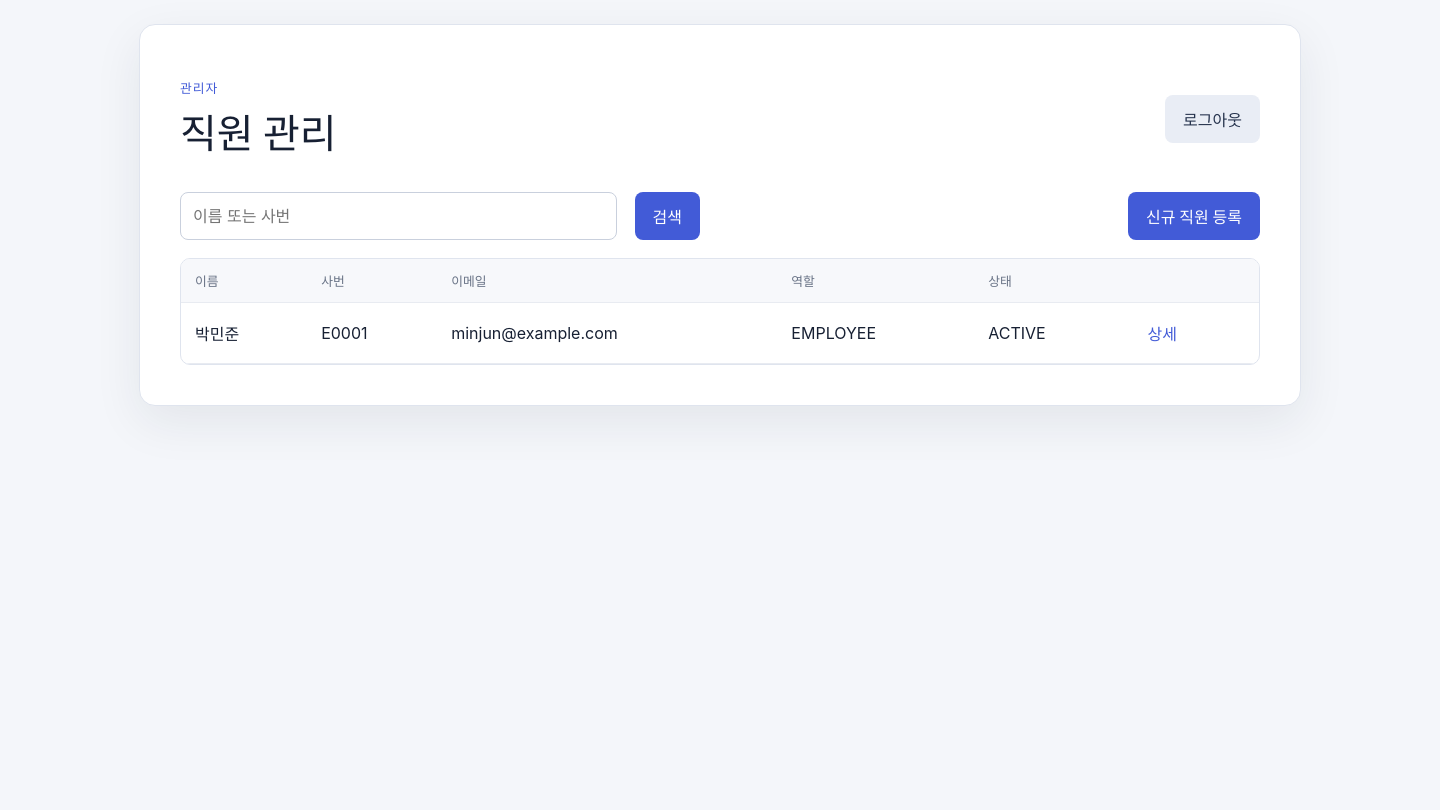
Test: 관리자는 이름 제안을 수정해 Background Check를 요청한다
Expected: the text "박민준" is shown, left=181, top=302, right=307, bottom=363
Click the button "상세".
click(1162, 333)  # box left=1138, top=315, right=1187, bottom=351
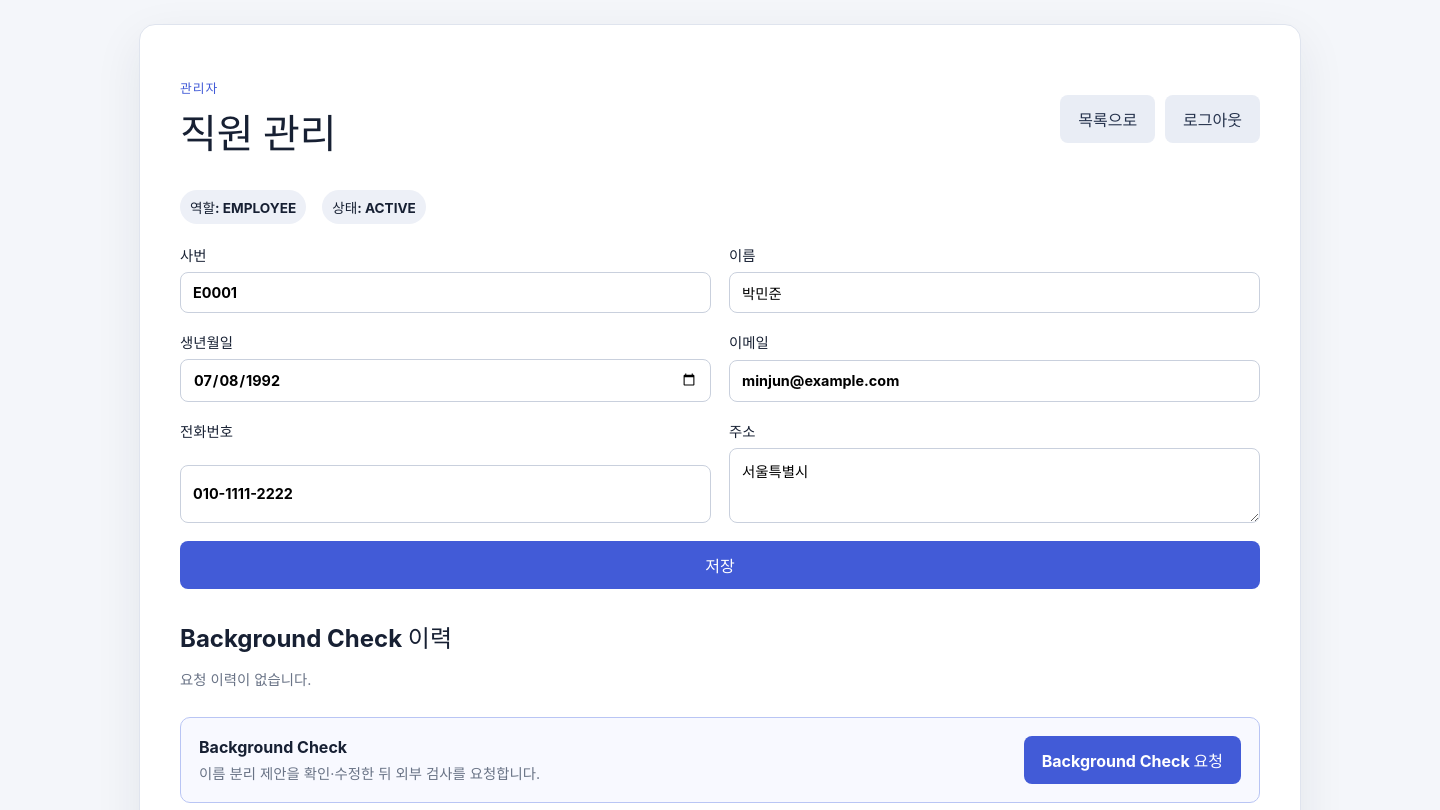
Result: the text "요청 이력이 없습니다." is shown at left=180, top=671, right=311, bottom=688
Click the button "Background Check 요청".
click(1132, 760)  # box left=1024, top=736, right=1241, bottom=784
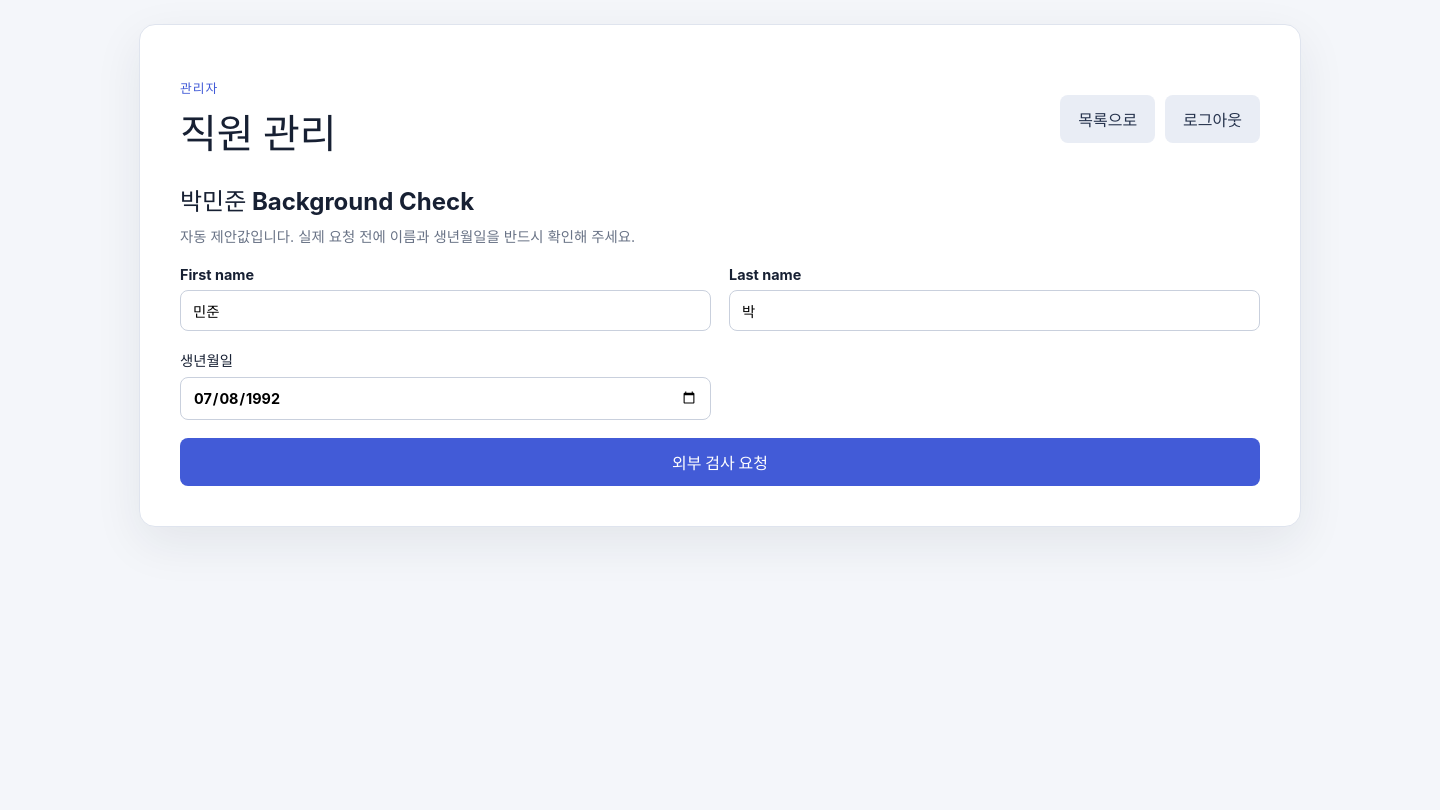
Replace the text in the field labelled "First name" with "수정이름" at (446, 310), box left=180, top=290, right=711, bottom=331
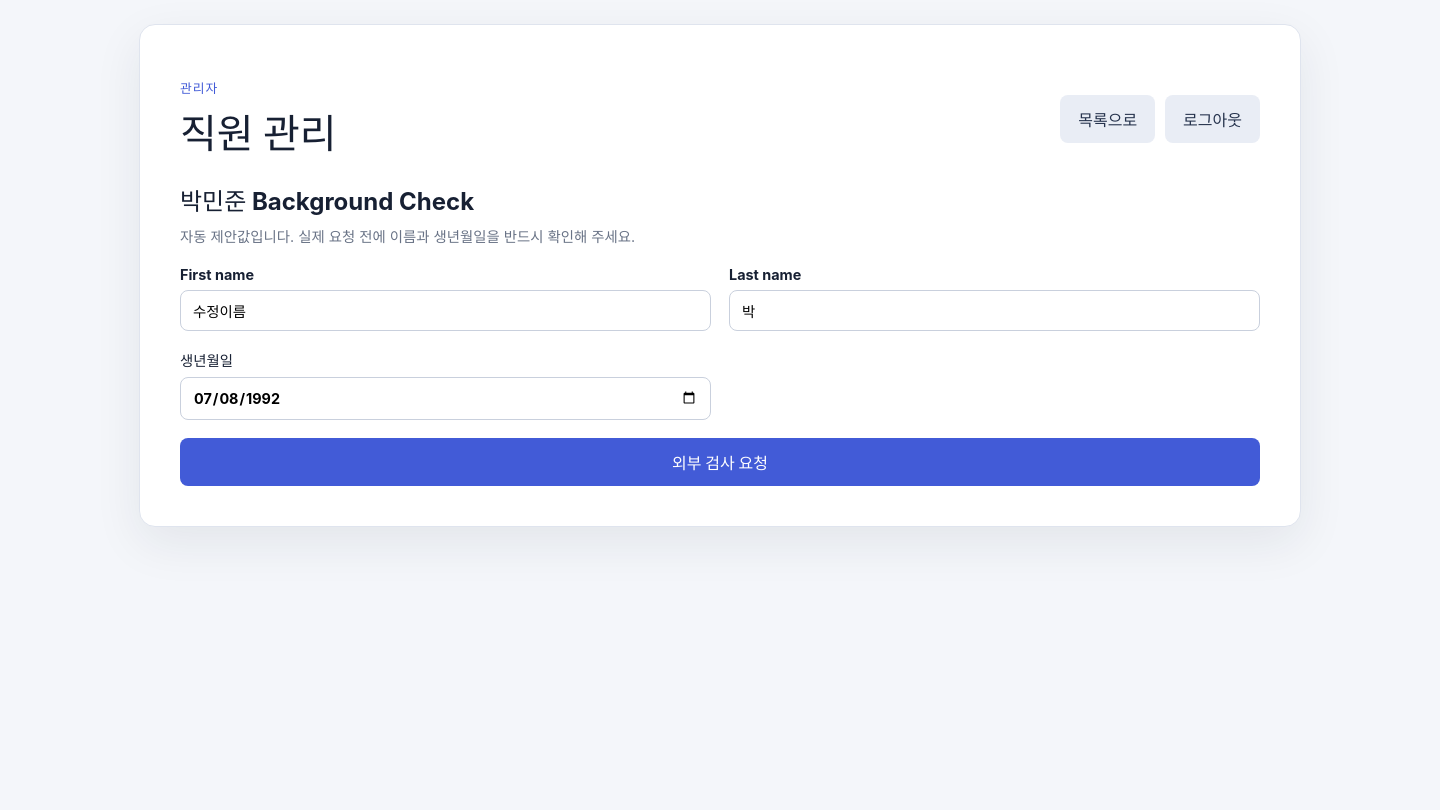
Replace the text in the field labelled "Last name" with "수정성" at (994, 310), box left=729, top=290, right=1260, bottom=331
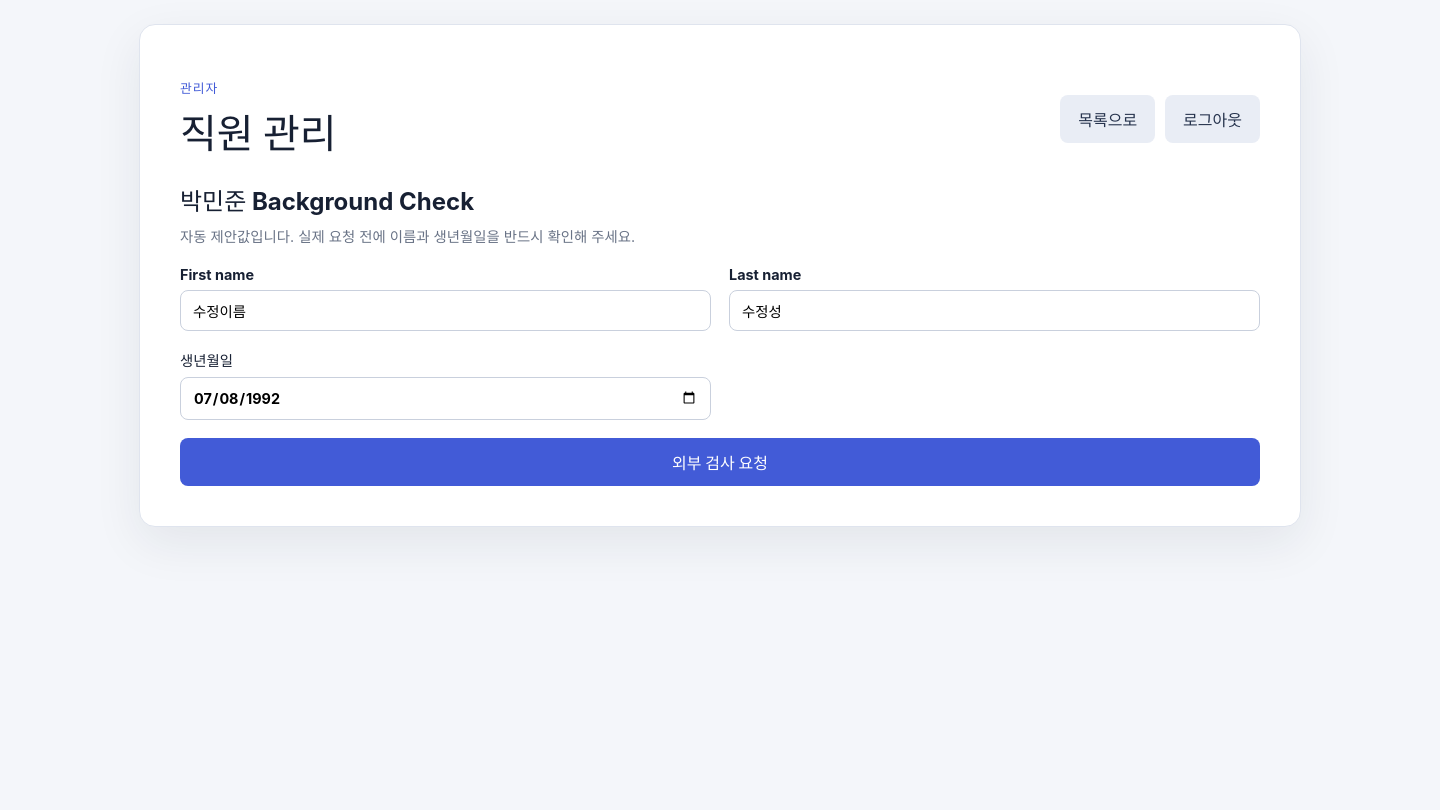
Type "1991-01-02" into the date field labelled "생년월일".
click(446, 398); type("1991-01-02")  # box left=180, top=377, right=711, bottom=420
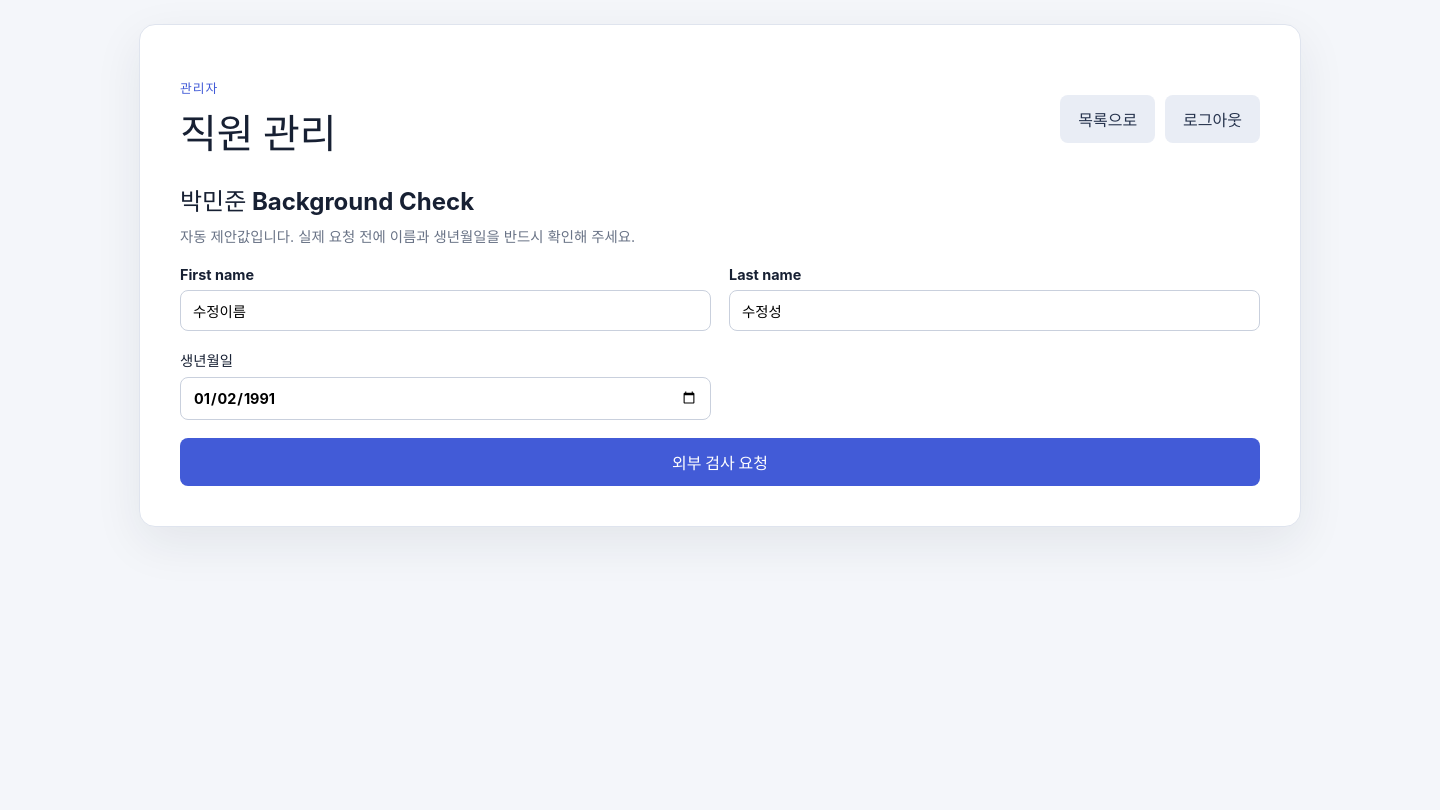
Click the button "외부 검사 요청".
click(720, 462)  # box left=180, top=438, right=1260, bottom=486
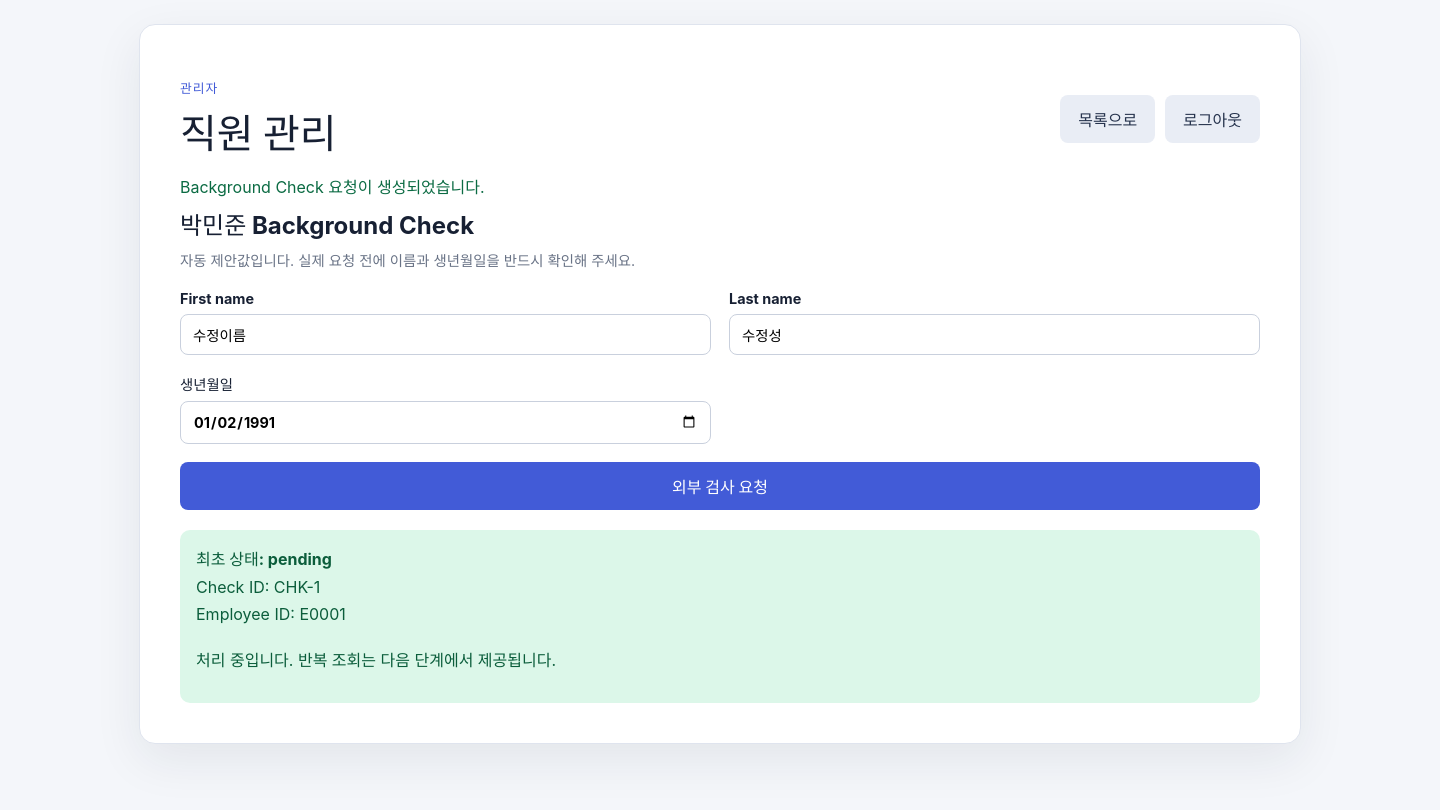
Result: the text "최초 상태: pending" is shown at left=196, top=549, right=332, bottom=569
